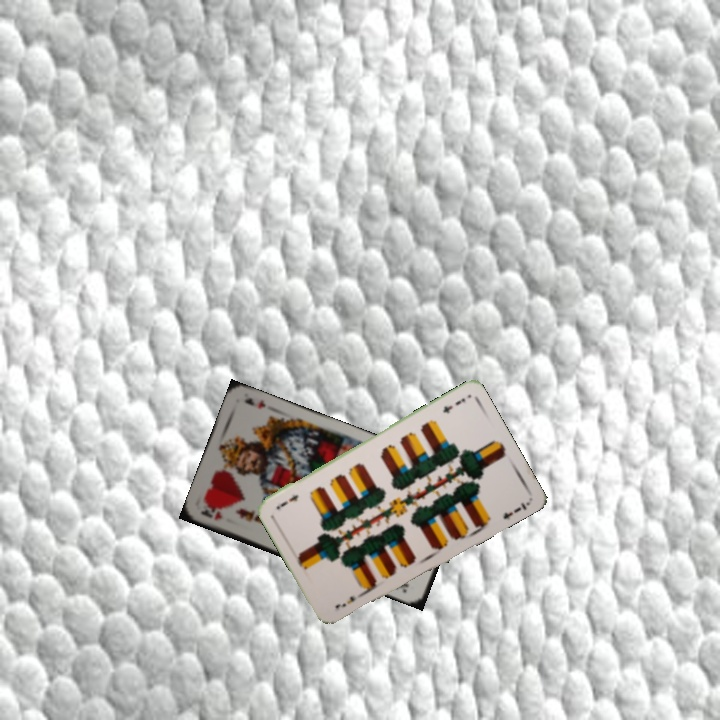E7: (331, 588, 367, 611), (439, 394, 468, 416)
HK: (197, 503, 225, 523)
